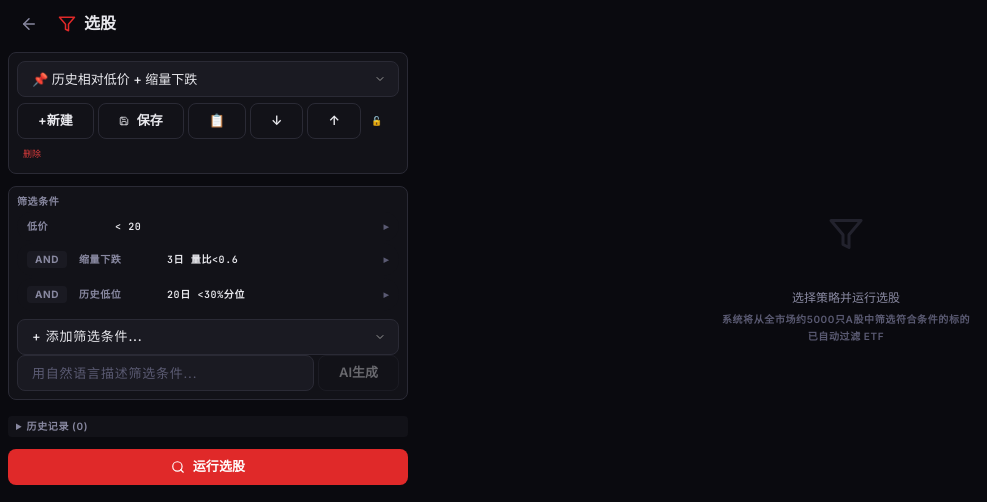
Test: ScreenerPage › hides delete button when strategy is locked and restores after unlock
Expected: the text "低价" is shown, [27,220,48,232]
Expected: the button "删除" is shown, [17,143,47,164]
Click the button "🔓" at (376, 121), box [365,110,388,132]
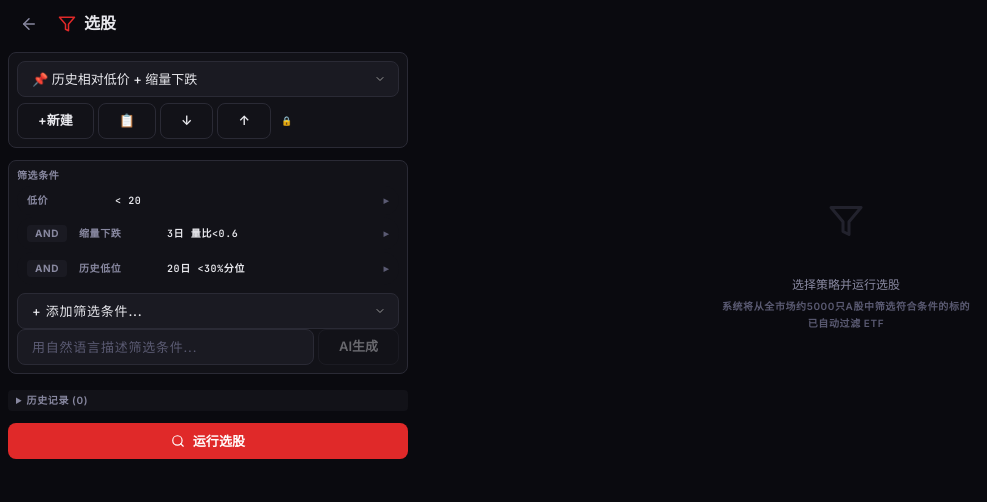
Expected: the button "🔒" is shown
Expected: the button "删除" is gone
Click the button "🔒" at (286, 121), box [275,110,298,132]
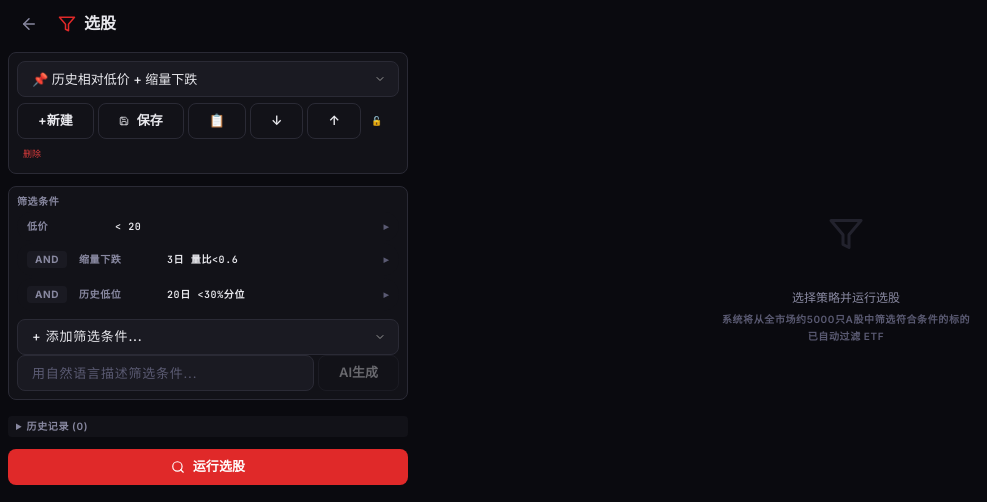
Expected: the button "删除" is shown, [17,143,47,164]
